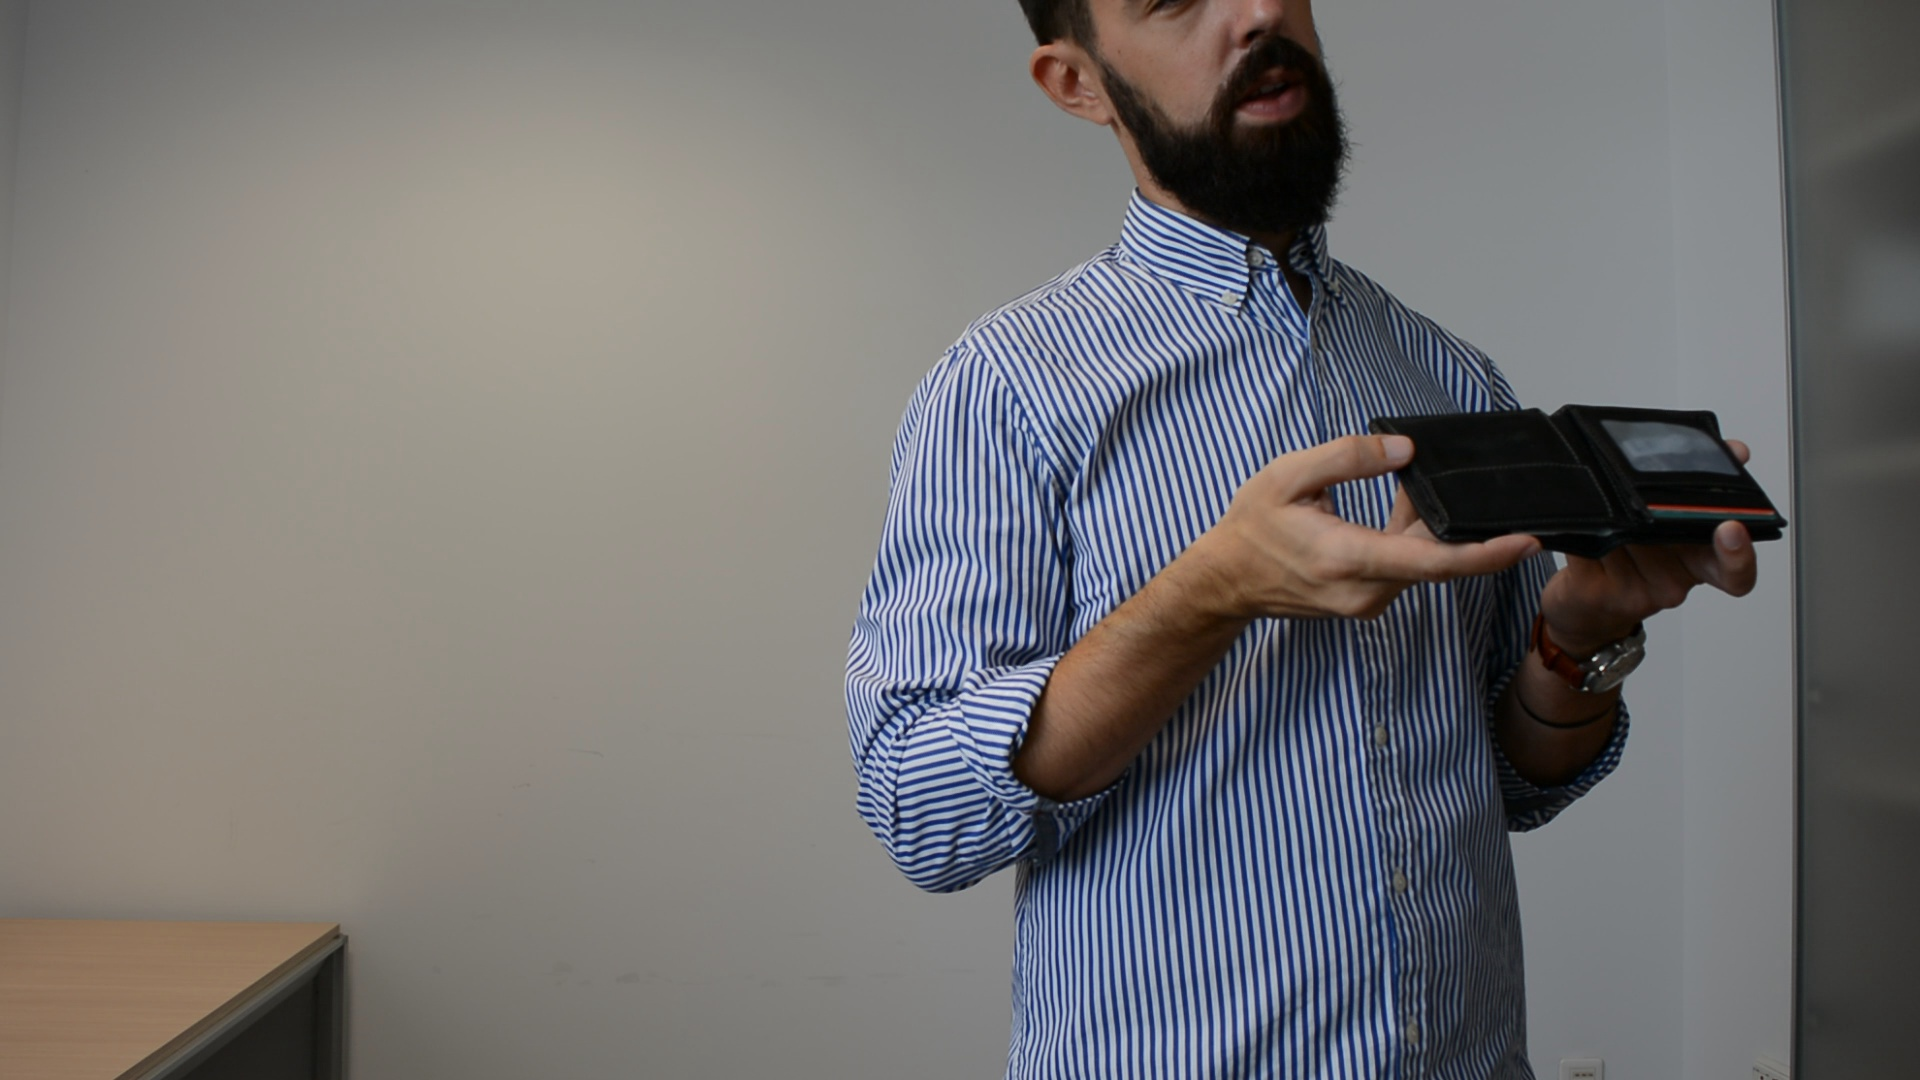monedero: (1367, 401, 1787, 567)
